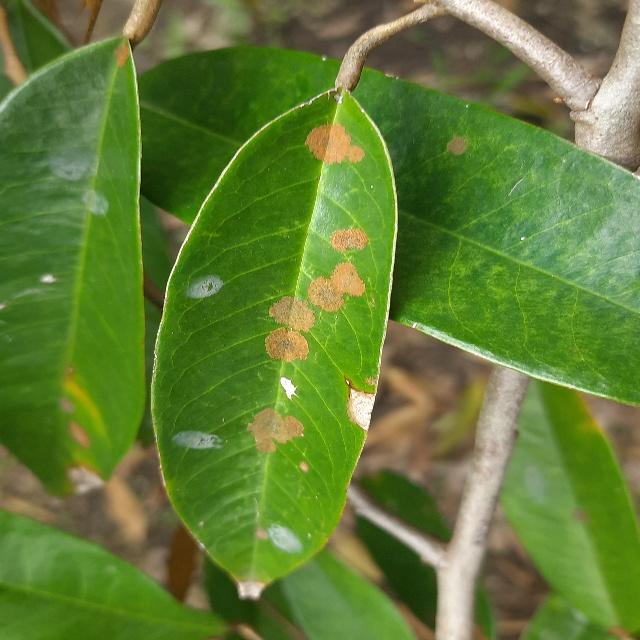Algal Leaf Spot: (141, 81, 411, 608)
